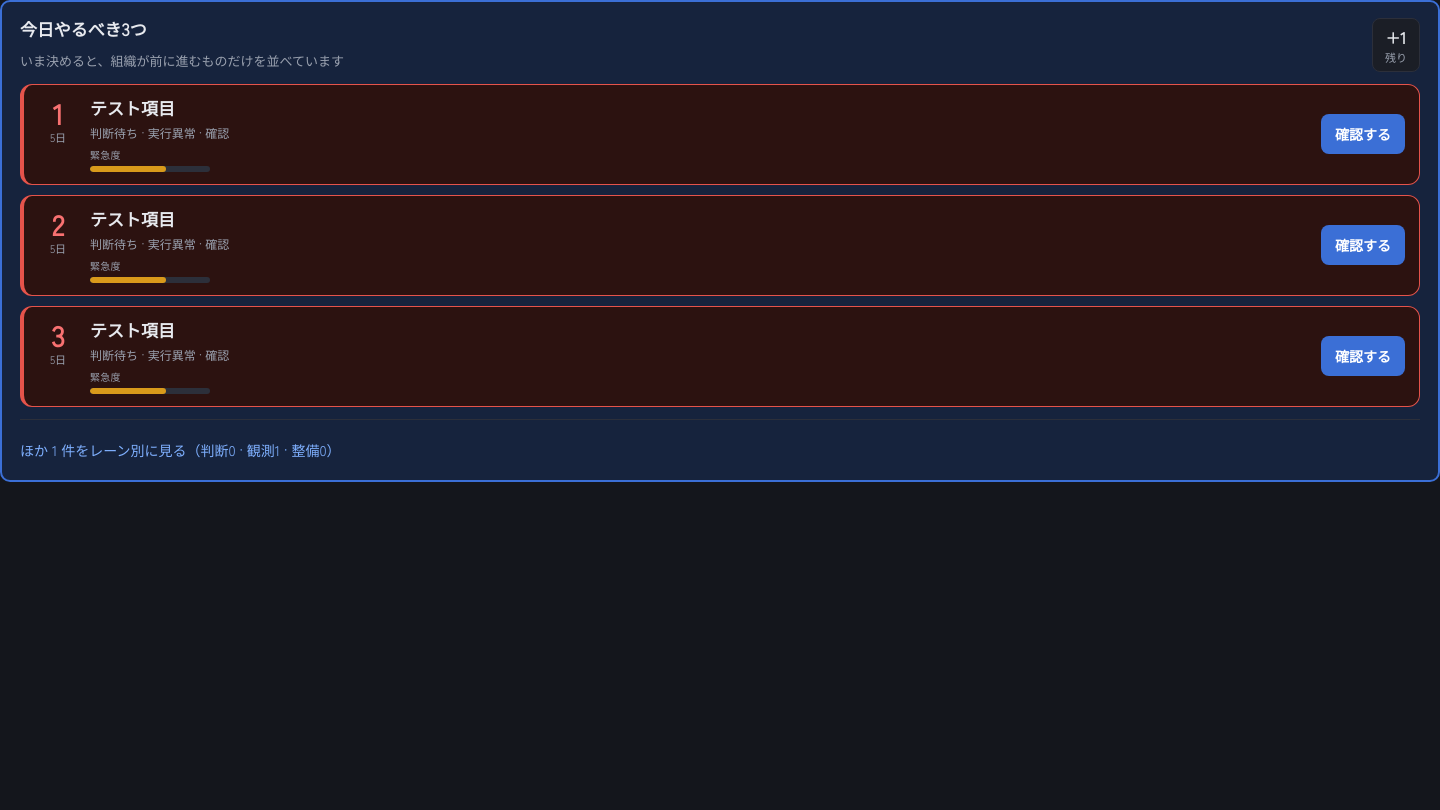
Test case: TodayActionsPanel › 4件目以降は「ほか」ボタンでレーン別に開ける
Click the button "ほか 1 件をレーン別に見る（判断0 · 観測1 · 整備0）" at (180, 450), box top-left (14, 436), bottom-right (346, 464)
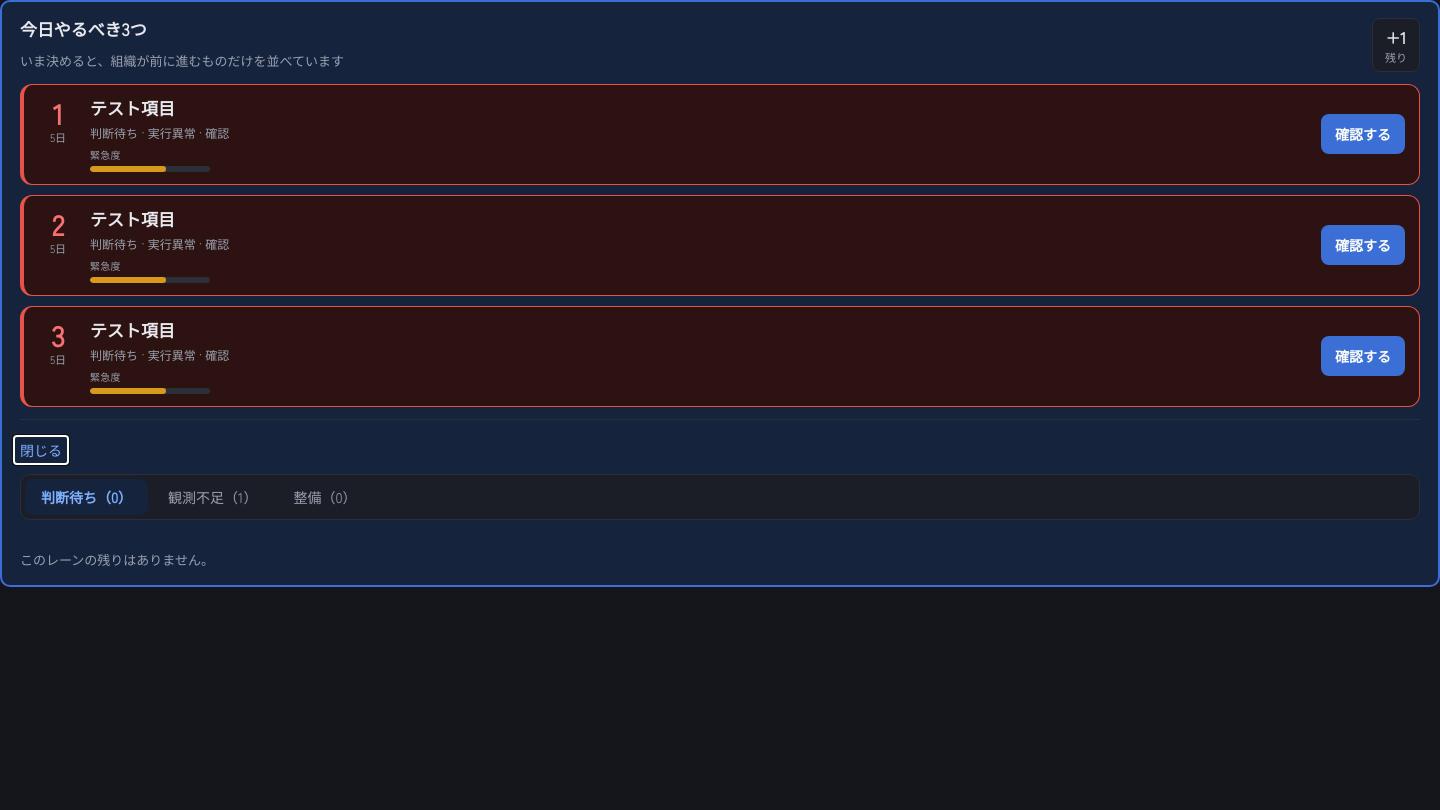
Click the button "観測不足（1）" at (213, 497), box top-left (152, 479), bottom-right (274, 515)
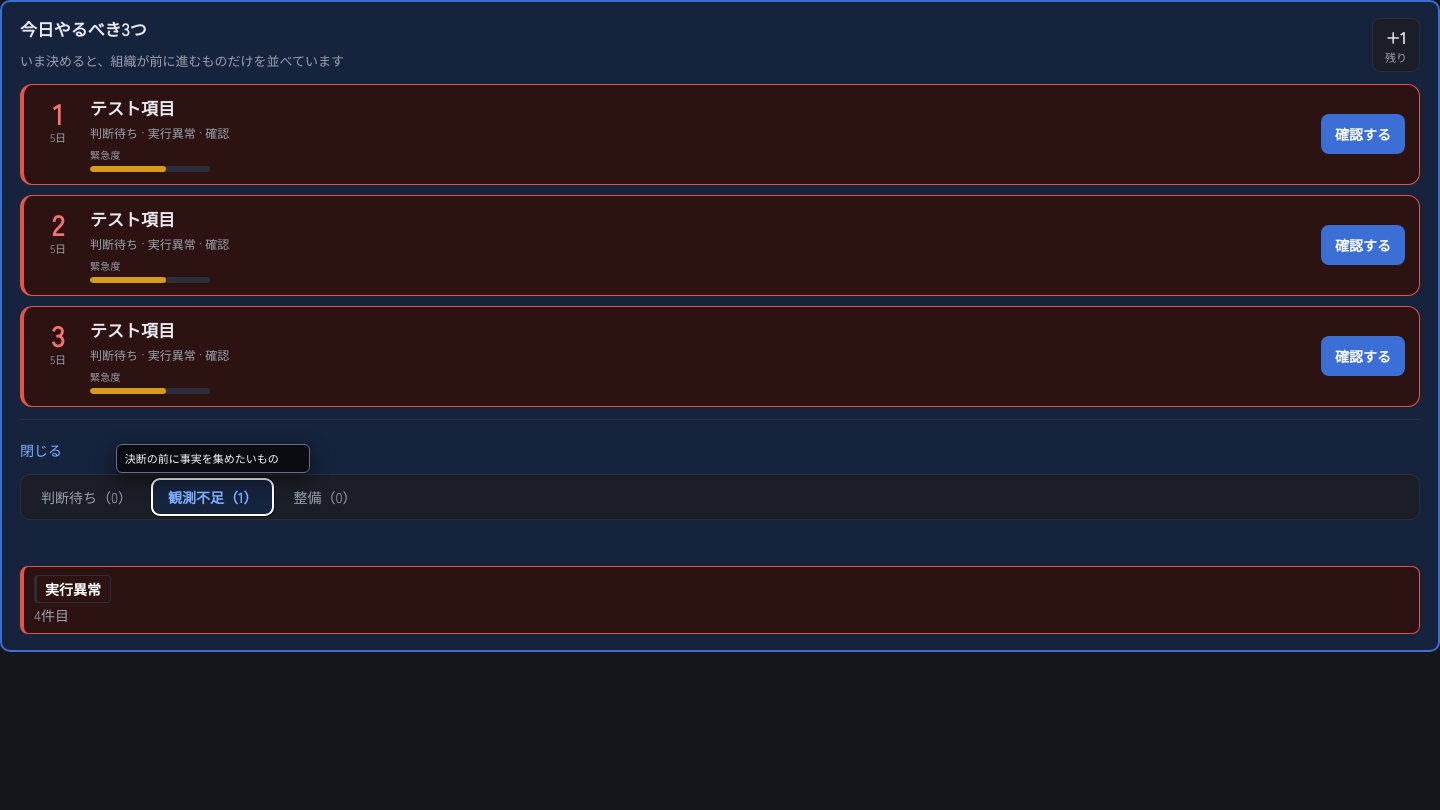
Check: the text "4件目" is shown, box top-left (34, 605), bottom-right (69, 625)
